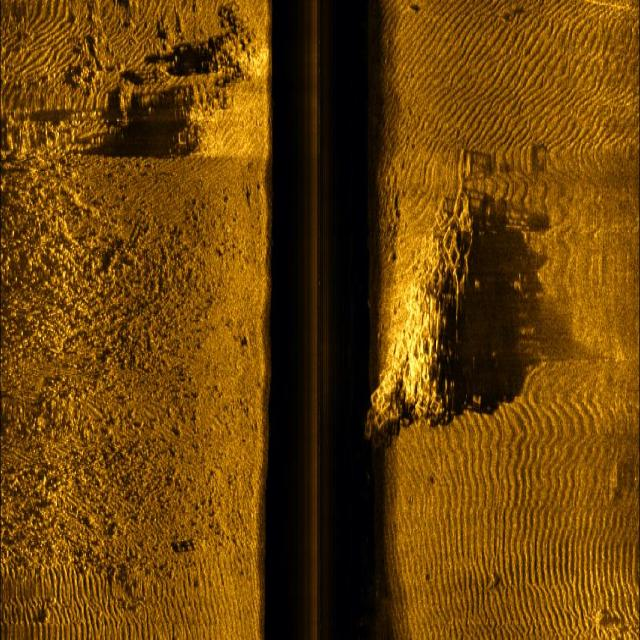artificial reef: (356, 166, 480, 446)
